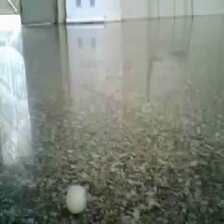w: (65, 184, 90, 214)
